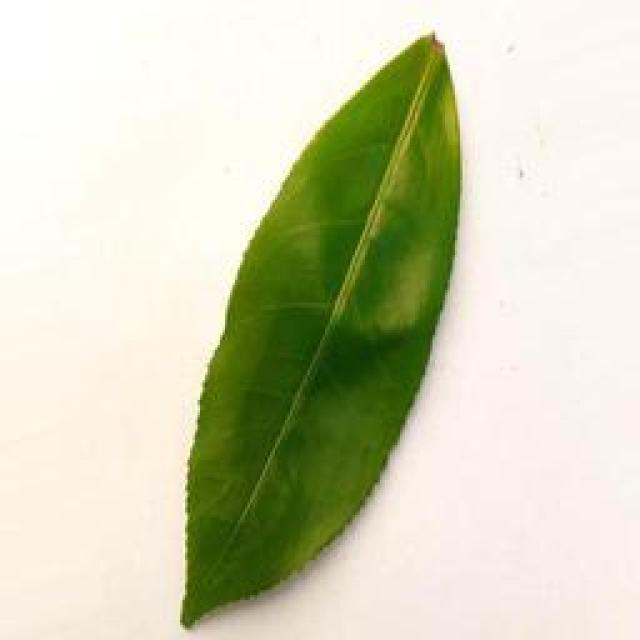Healthy: (166, 22, 468, 632)
